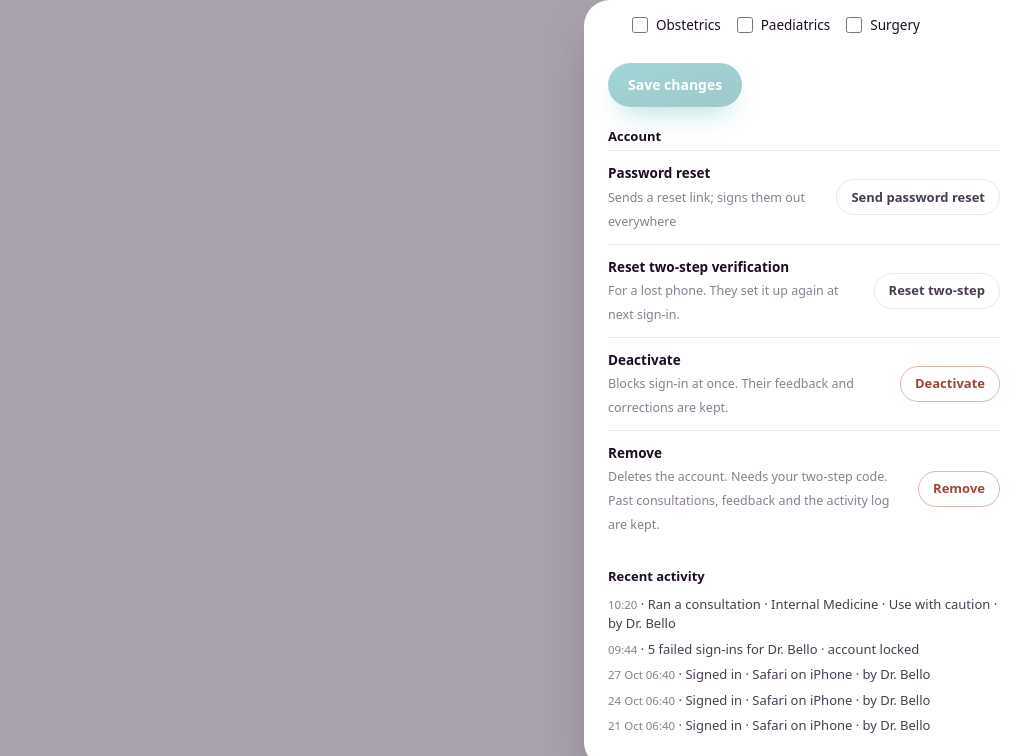
AccountActions › Keep account changes nothing
This screenshot has width=1024, height=756.
(page scrolled)
Click the button "Deactivate". click: (950, 384)
box: left=900, top=366, right=1000, bottom=402
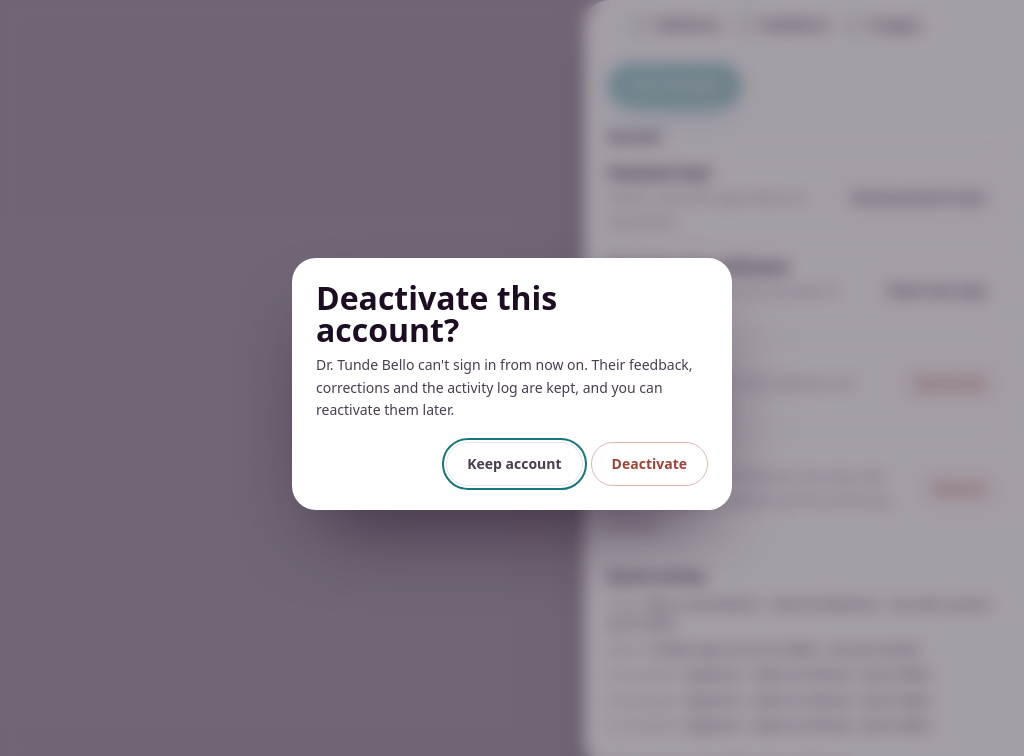
Click the button "Keep account". click: (514, 464)
box: left=446, top=442, right=583, bottom=486
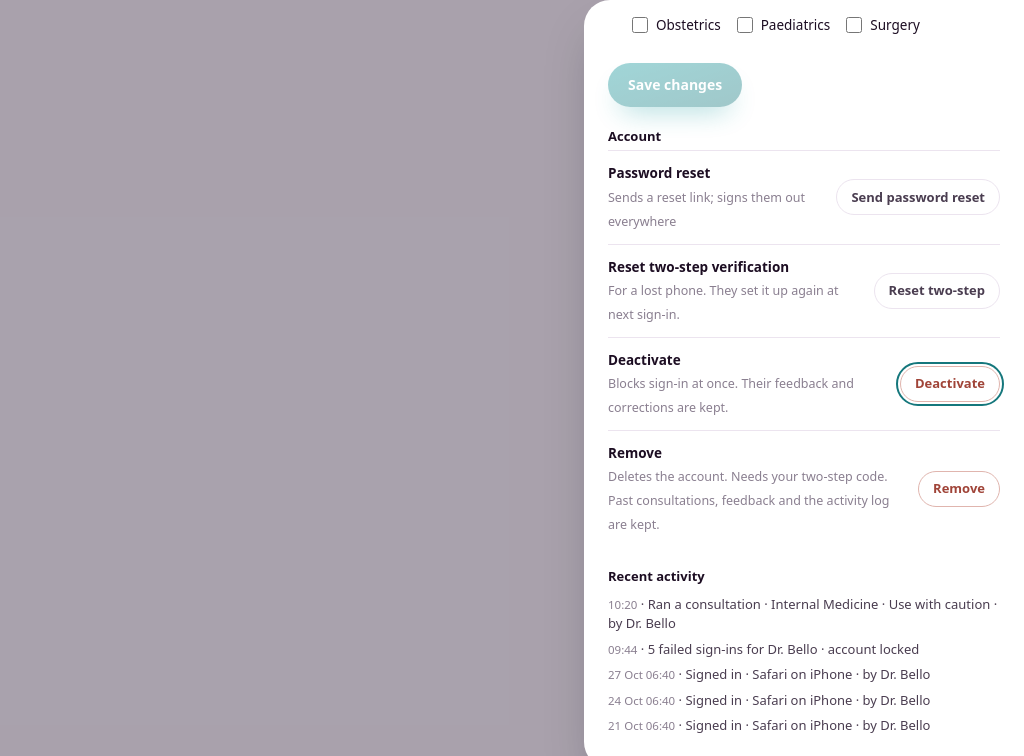
expect the heading "Deactivate this account?" is gone: met
